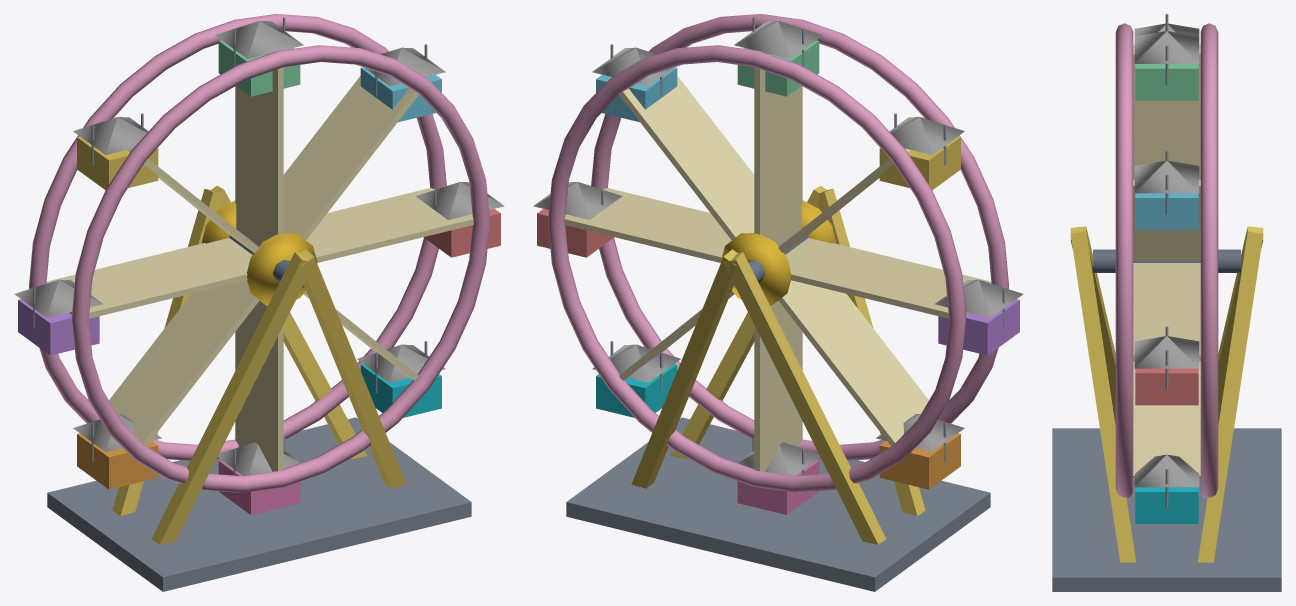
Rendered from ferris-wheel.glb.
The picture shows the model from 3 angles, left to right: view 1: azimuth 30°, elevation 25°; view 2: azimuth 150°, elevation 25°; view 3: azimuth 270°, elevation 25°; orthographic projection.
Visible parts, largest first — view 1: Root; view 2: Root; view 3: Root.
Boxes of the visible parts, x1,y1,x2,y2 form: Root: (14, 14, 504, 591); Root: (533, 14, 1023, 591); Root: (1052, 14, 1281, 591).
Size of the model in its own units: 14.84 by 15.2 by 6.5.
